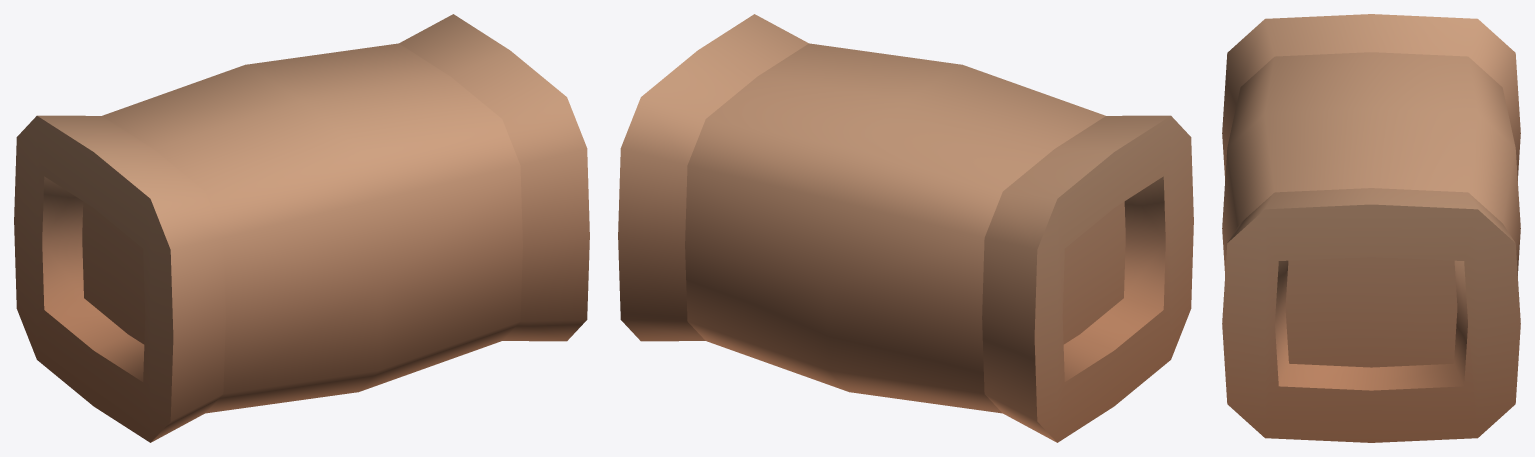
The model's file is hay.glb.
3 renders of one model, left to right at view 1: azimuth 30°, elevation 25°; view 2: azimuth 150°, elevation 25°; view 3: azimuth 270°, elevation 25°, orthographic. The views are drawn at different scales.
Parts seen in each view (by area): view 1: hay-bale-2; view 2: hay-bale-2; view 3: hay-bale-2.
Boxes of the visible parts, x1,y1,x2,y2 form: hay-bale-2: (14,14,589,442); hay-bale-2: (618,14,1193,442); hay-bale-2: (1222,14,1520,442).
Size of the model in its own units: 0.6066 by 0.3541 by 0.402.
